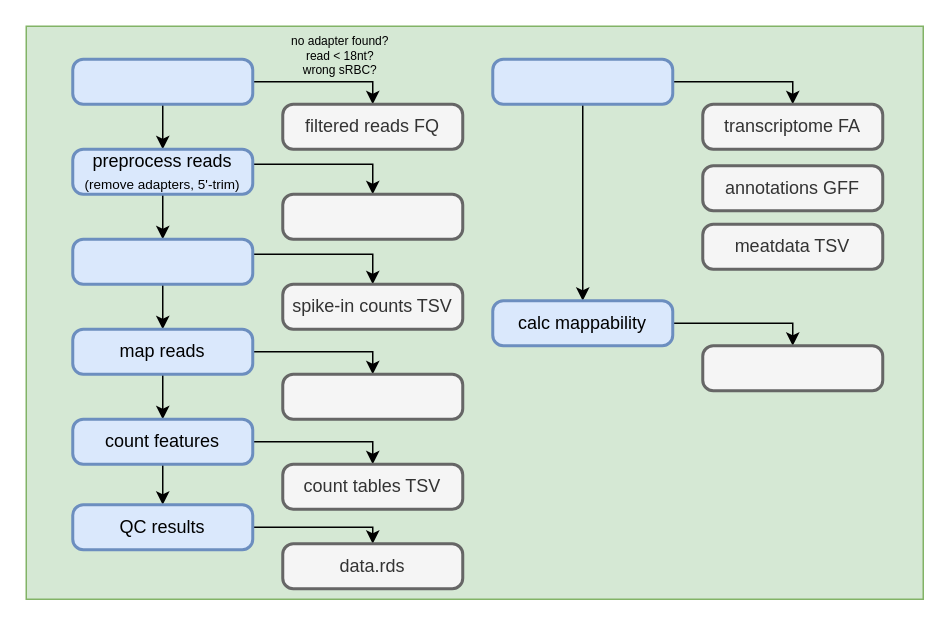
This 950x626 diagram has some shape labels left out. Here are the shapes that lost their labels. From the top down, the box of each, then its label:
(70, 57, 254, 105): parse reads (extract umi,srbc,etc)
(490, 57, 674, 105): build transcriptome
(280, 192, 464, 240): preprocessed reads FQ
(70, 237, 254, 285): count spike-in reads
(700, 344, 884, 392): mappability bedgraph
(280, 372, 464, 420): mapped reads BAM
